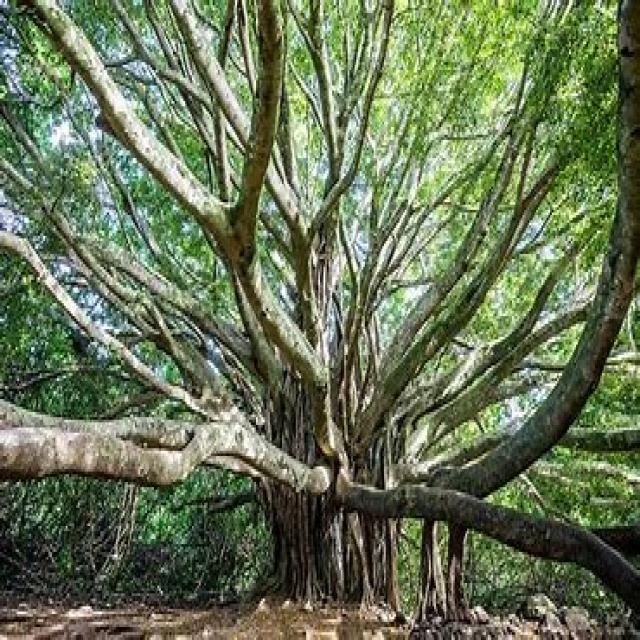Banyan-Tree: (0, 0, 640, 640), (136, 138, 478, 538)
